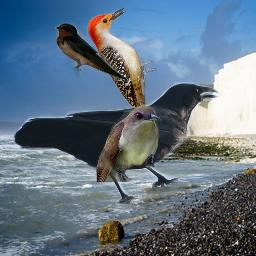Crow: (13, 82, 221, 204)
Cuckoo: (96, 106, 162, 182)
Swallow: (54, 22, 129, 82)
Woodpecker: (87, 7, 165, 137)
